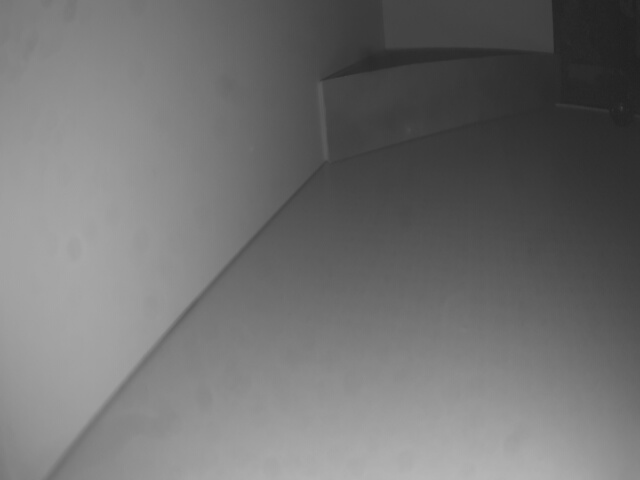Dead: (609, 86, 634, 123)
Green: (321, 56, 562, 162)
